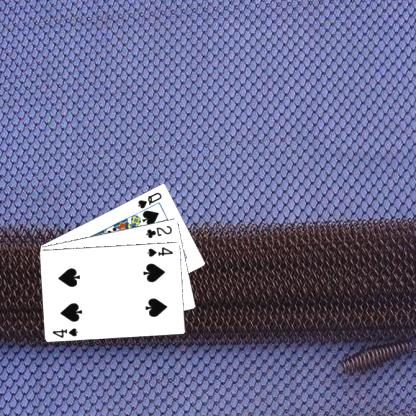2C: (144, 222, 173, 239)
4S: (50, 325, 80, 339), (145, 244, 174, 258)
QS: (135, 189, 163, 210)
